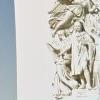Statue: (38, 1, 100, 100)
